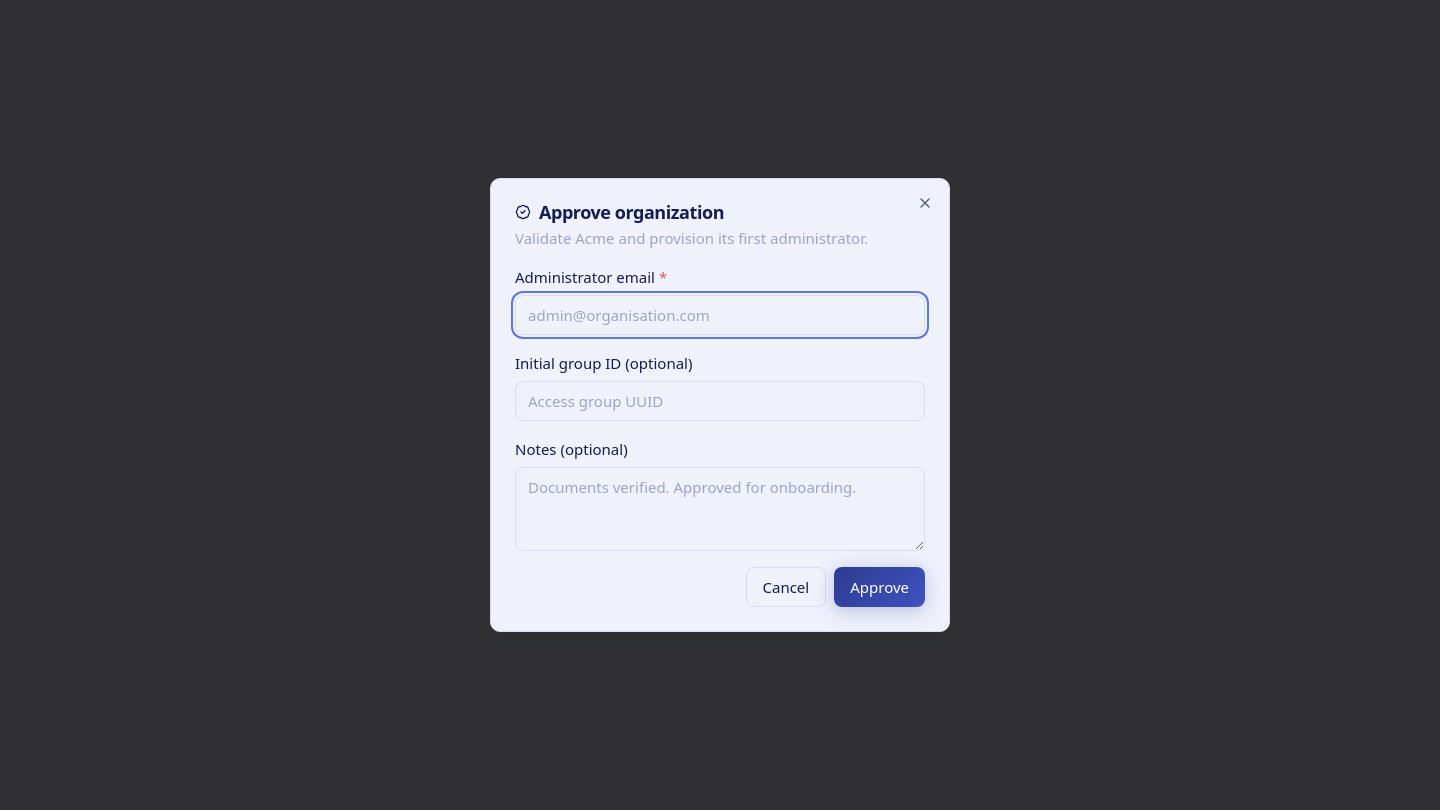
it: ApproveOrganizationDialog › blocks approval for a malformed email
Type "not-an-email" into the field labelled "Administrator email *" at (720, 315), box [515,295,925,335]
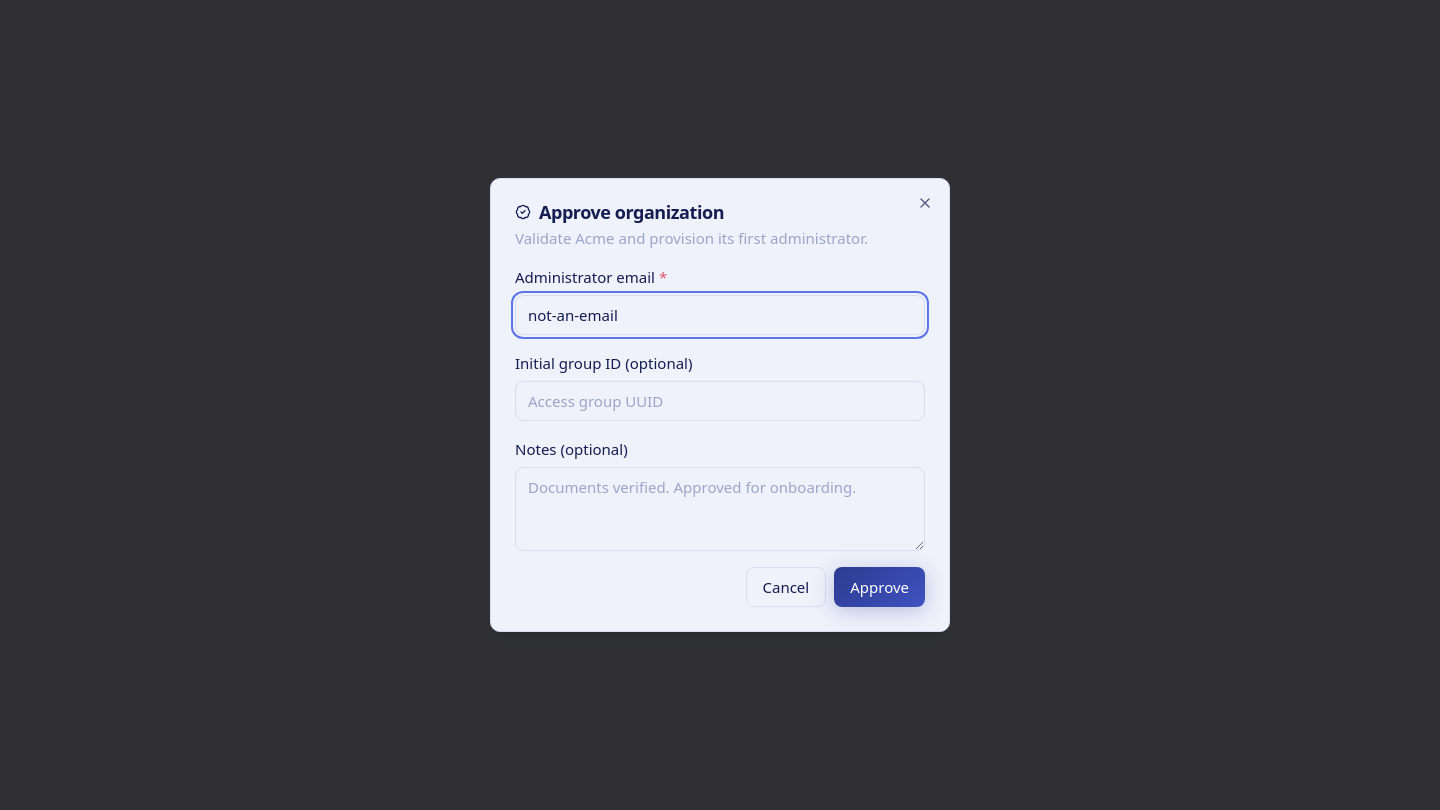
Click the button "Approve" at (880, 587), box [834,567,925,607]
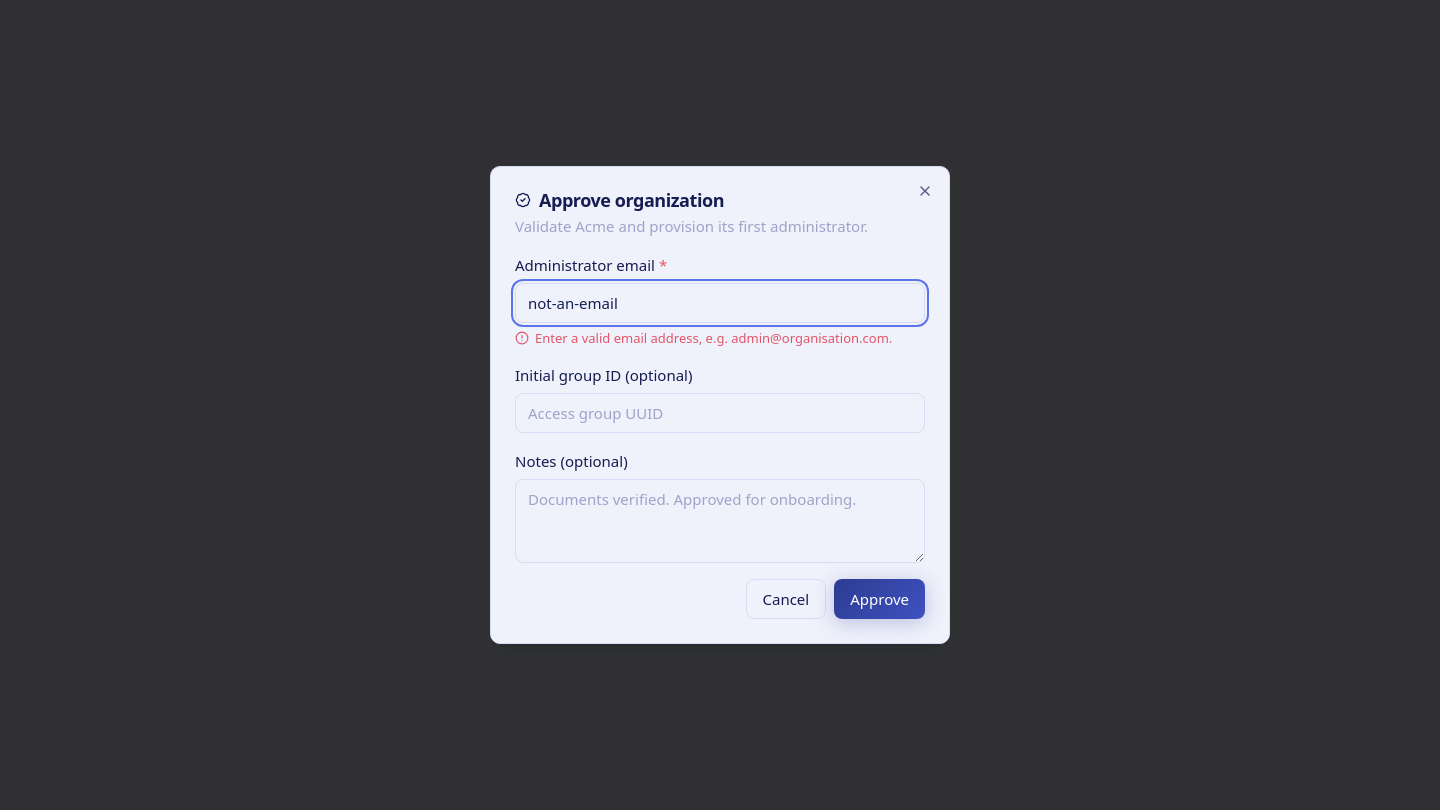
Result: the message shows "valid email" at [535,329,892,347]
